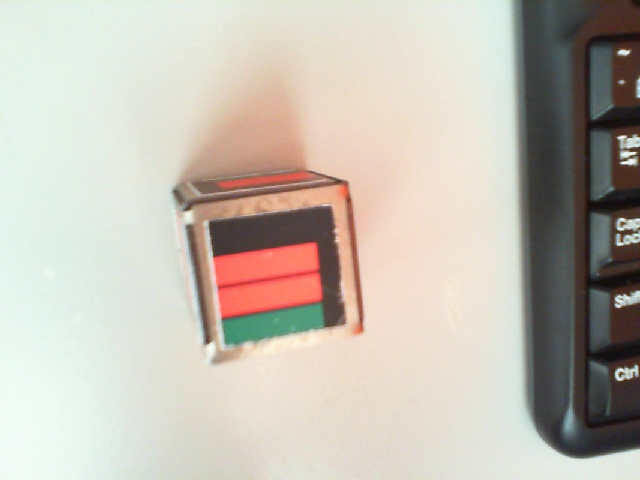square: (213, 212, 346, 339)
